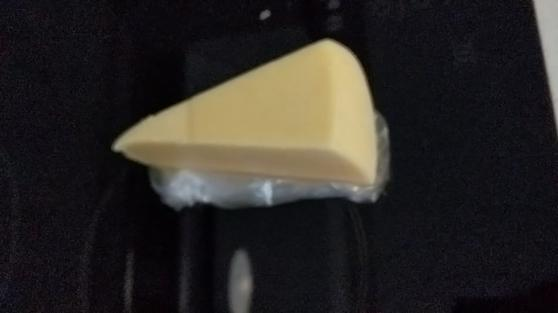cheese: (111, 30, 382, 192)
